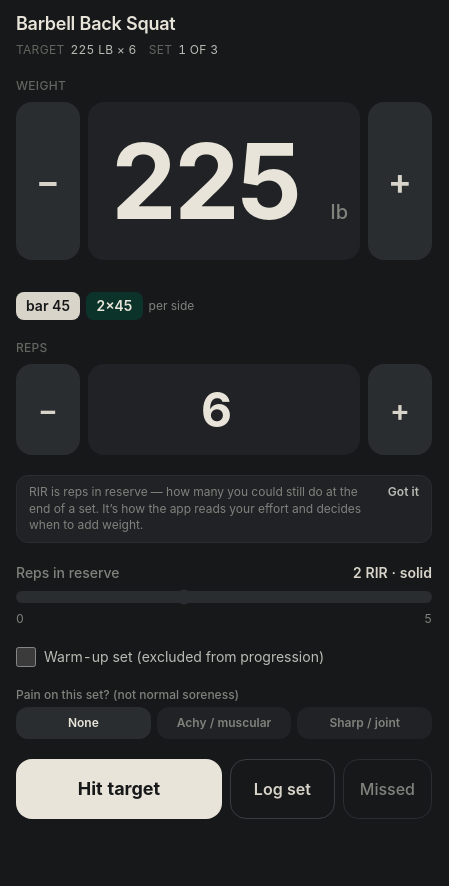
Test: LogSet — the rep target follows the load between sets › a miss backs the weight off and gives reps to chase
Step 1. Replace the text in the number field with test id "reps-input" with "3" → (224, 410), box [100,380,348,439]
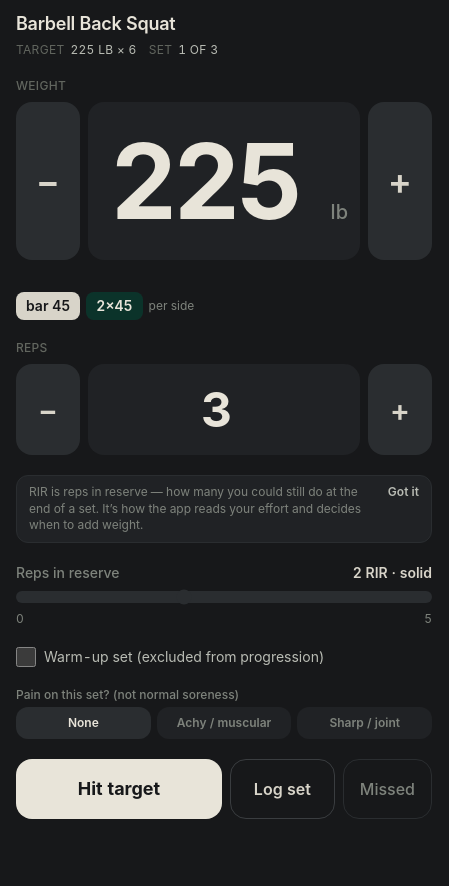
Step 2. Click the button "Log set" → (282, 788), box [230,758,335,818]
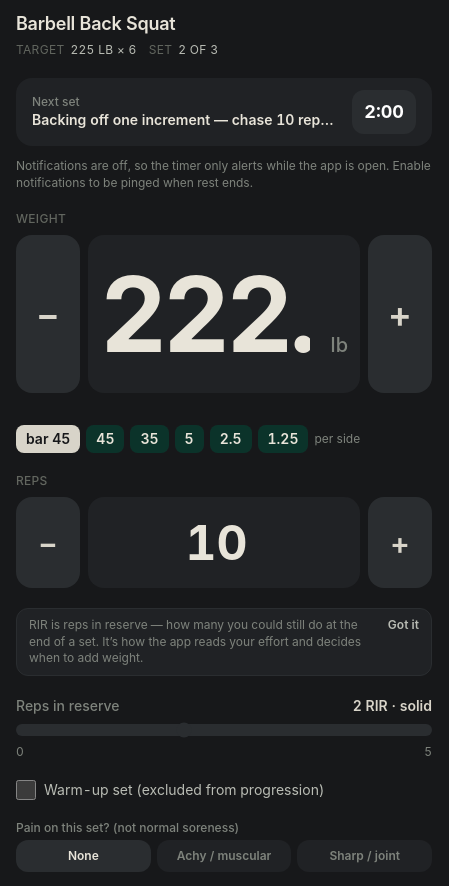
Check: the number field with test id "weight-input" holds "222.5", box [100,251,325,377]
Check: the number field with test id "reps-input" holds "10", box [100,513,348,572]
